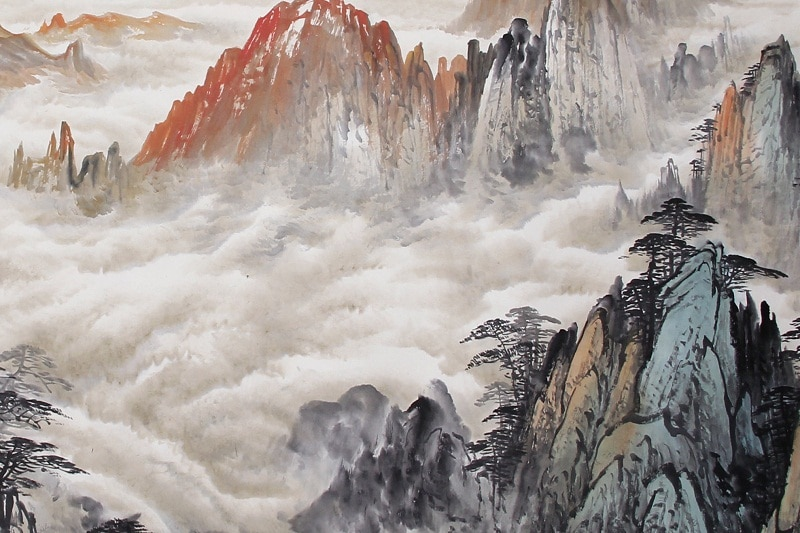mountain: (216, 1, 656, 205), (493, 248, 727, 532), (290, 382, 483, 532), (691, 39, 800, 213)
pine: (468, 297, 556, 484), (1, 338, 79, 533), (636, 193, 712, 275), (724, 248, 785, 301)
range: (11, 122, 179, 195), (645, 15, 753, 96), (23, 9, 203, 43)
